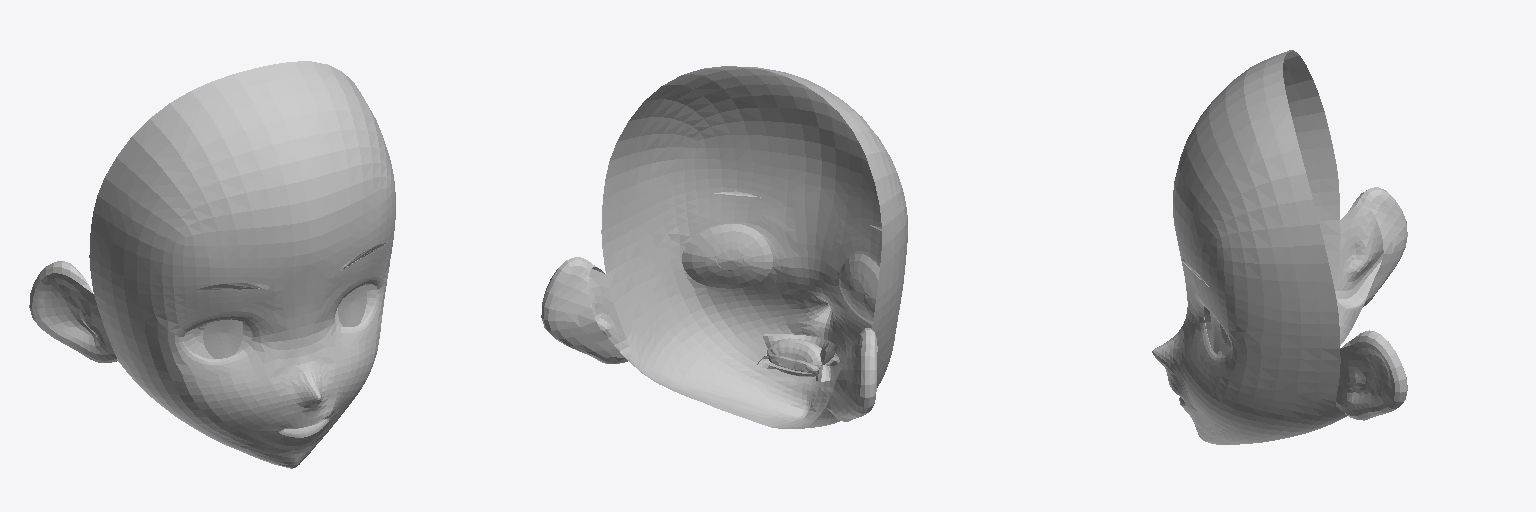
Rendered from mouthUpperUpLeft.obj.
The picture shows the model from 3 angles: view 1: azimuth 30°, elevation 25°; view 2: azimuth 150°, elevation 25°; view 3: azimuth 270°, elevation 25°; orthographic projection.
Parts seen in each view (by area): view 1: Face; view 2: Face; view 3: Face.
Boxes of the visible parts, <box> form: Face: <box>29,61,395,468</box>; Face: <box>541,66,907,428</box>; Face: <box>1152,50,1407,444</box>.
Bounding box in the file's own units: 0.2176 × 0.2333 × 0.1449.